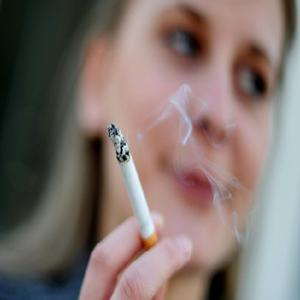cigarette: (108, 123, 159, 248)
